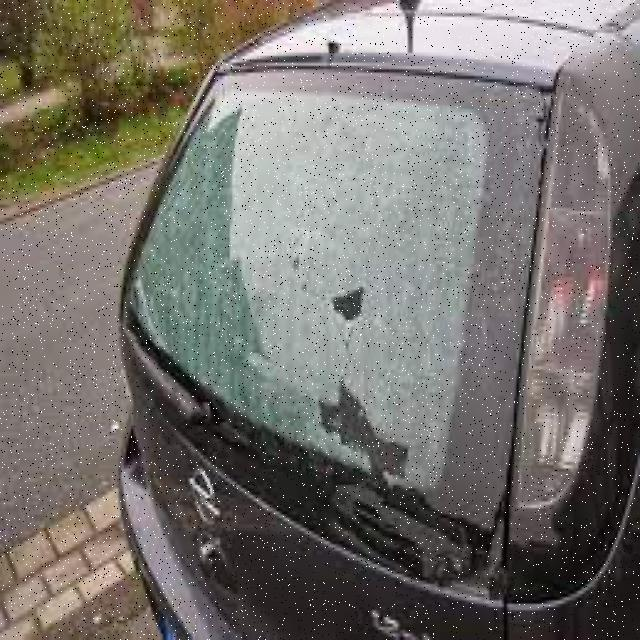Rear-windscreen-Damage: (92, 40, 569, 479)
